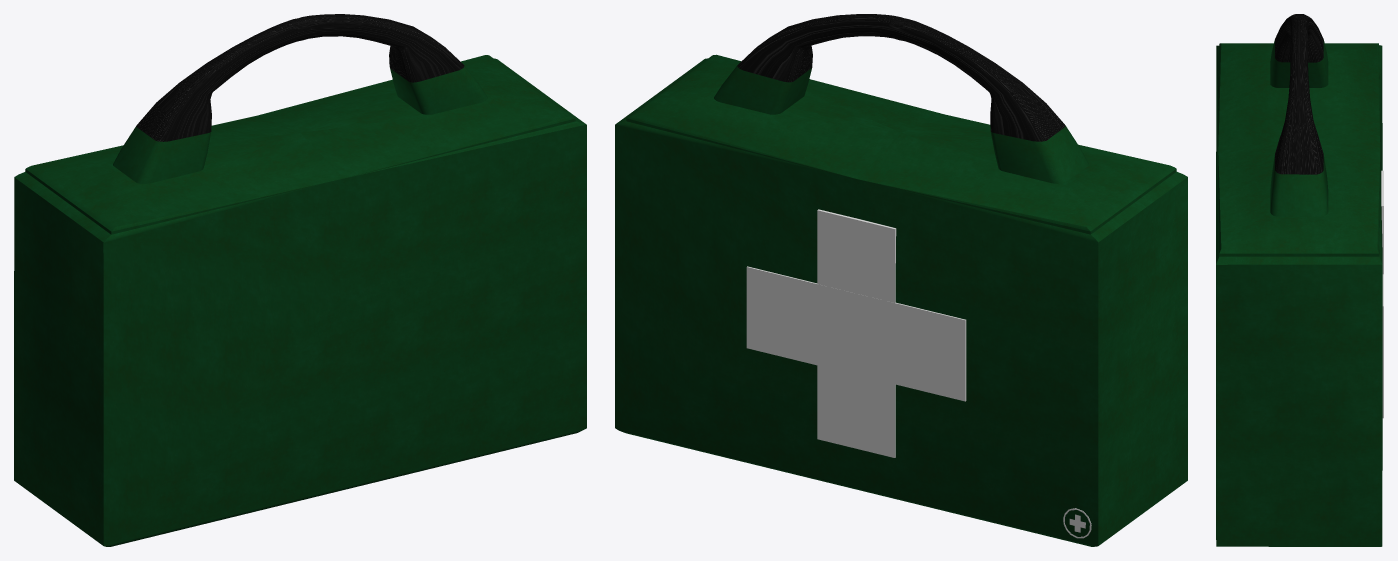
File: lowpoly_medkit.glb
3 renders of one model, left to right at view 1: azimuth 30°, elevation 25°; view 2: azimuth 150°, elevation 25°; view 3: azimuth 270°, elevation 25°, orthographic. The views are drawn at different scales.
Parts seen in each view (by area): view 1: Medkit; view 2: Medkit; view 3: Medkit.
Boxes of the visible parts, x1,y1,x2,y2 form: Medkit: (14,14,586,546); Medkit: (615,14,1187,546); Medkit: (1216,14,1383,546).
Size of the model in its own units: 1.7 by 1.48 by 0.5515.
3 materials, 2 textured.
